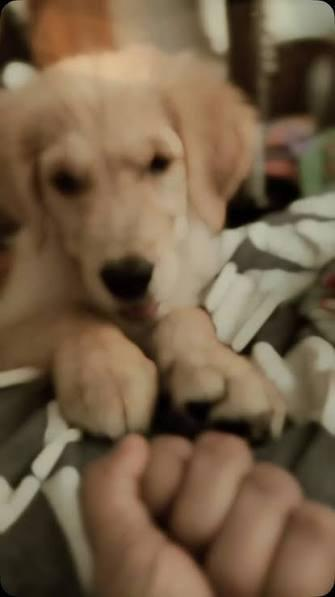puppy-dog: (1, 34, 289, 451)
